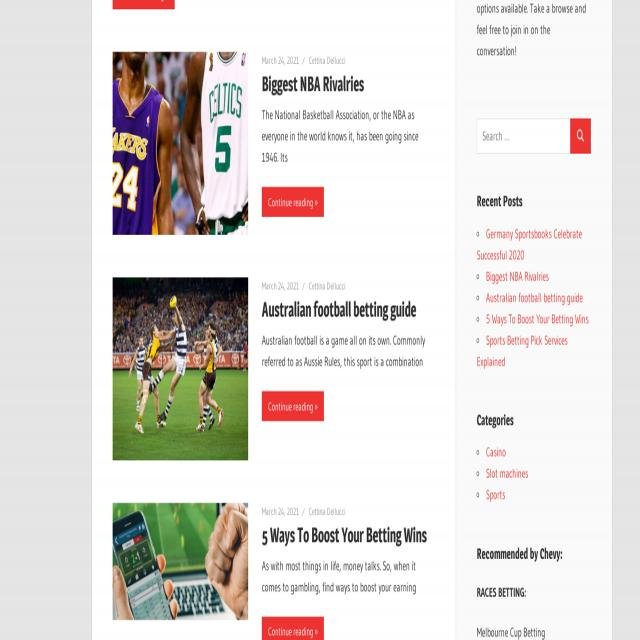button: (113, 52, 248, 234), (113, 278, 248, 460), (112, 503, 248, 619), (262, 187, 324, 217), (262, 392, 324, 421), (263, 617, 324, 640), (570, 119, 592, 155), (113, 0, 174, 9)
field: (477, 118, 571, 153)
